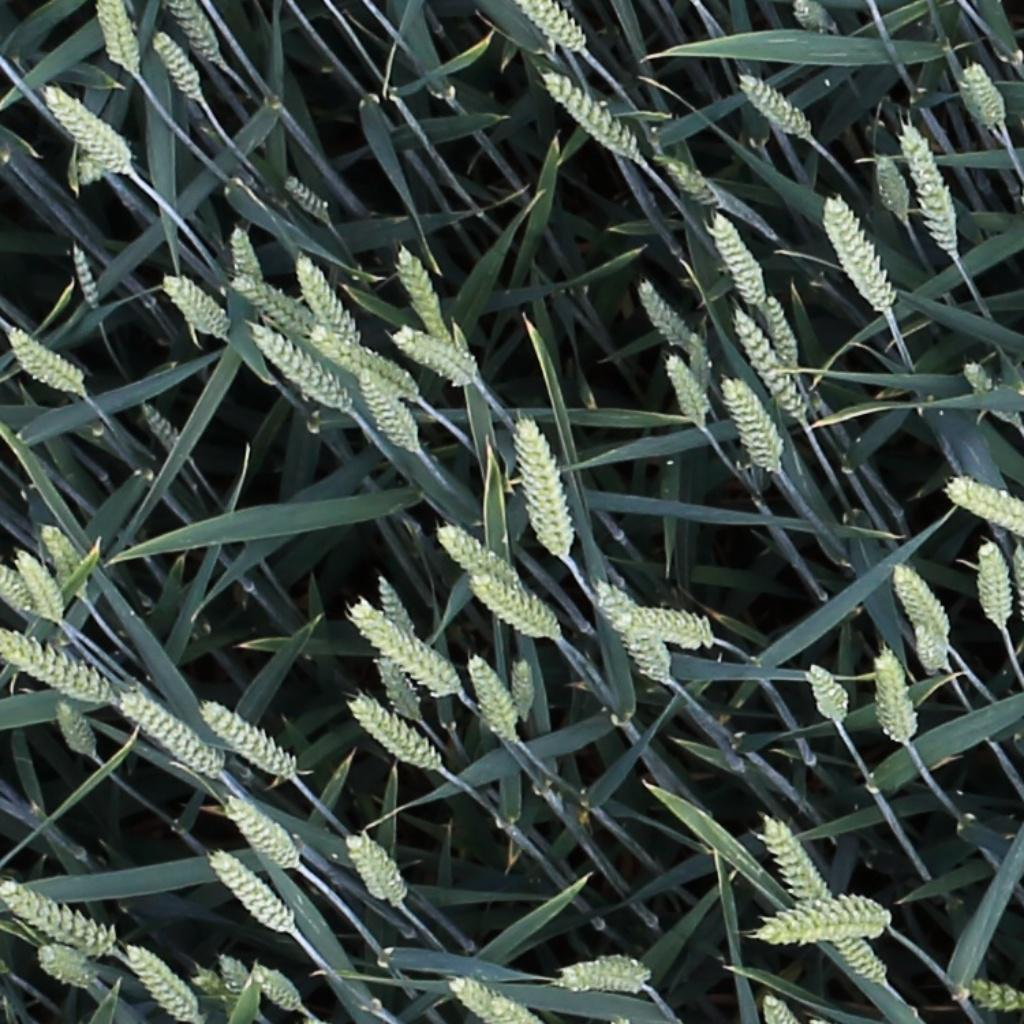0-0: (759, 813, 884, 987), (726, 303, 808, 428), (542, 69, 646, 166), (346, 606, 454, 694), (39, 83, 135, 178), (821, 191, 895, 312), (897, 118, 961, 255), (117, 693, 218, 779), (247, 323, 346, 410), (593, 588, 673, 690), (0, 632, 111, 705), (2, 882, 111, 955), (288, 249, 363, 352), (197, 700, 293, 780), (514, 412, 566, 559), (207, 851, 292, 939), (751, 894, 892, 947), (387, 238, 453, 349), (307, 327, 416, 394), (118, 940, 199, 1024), (348, 697, 438, 772), (720, 372, 782, 476), (707, 206, 768, 311), (350, 367, 420, 457), (219, 795, 297, 875), (888, 558, 954, 645), (469, 577, 557, 641), (736, 69, 814, 141), (434, 525, 516, 591), (5, 326, 83, 394), (630, 273, 696, 353), (462, 652, 518, 745), (390, 327, 476, 382), (346, 832, 404, 913), (946, 474, 1024, 534), (959, 357, 1024, 428), (368, 648, 421, 733), (157, 273, 226, 338), (516, 0, 592, 58), (10, 548, 63, 631), (228, 275, 308, 329), (146, 28, 202, 105), (165, 0, 225, 69), (875, 649, 918, 742), (665, 357, 713, 438), (454, 982, 546, 1024), (94, 0, 141, 82), (961, 58, 1010, 133), (560, 955, 647, 997), (368, 569, 416, 645), (659, 152, 726, 206), (49, 696, 99, 767), (977, 536, 1013, 634), (759, 289, 800, 372), (210, 947, 260, 1014), (34, 520, 83, 587), (613, 610, 712, 643), (802, 659, 850, 727), (869, 146, 912, 219), (64, 237, 102, 314), (132, 394, 180, 454), (244, 963, 301, 1013), (223, 218, 260, 292), (278, 170, 330, 222), (909, 617, 950, 682), (36, 946, 94, 989), (0, 559, 38, 621), (689, 326, 719, 398), (952, 982, 1024, 1011), (790, 0, 836, 39), (509, 655, 533, 727), (756, 988, 795, 1024)
